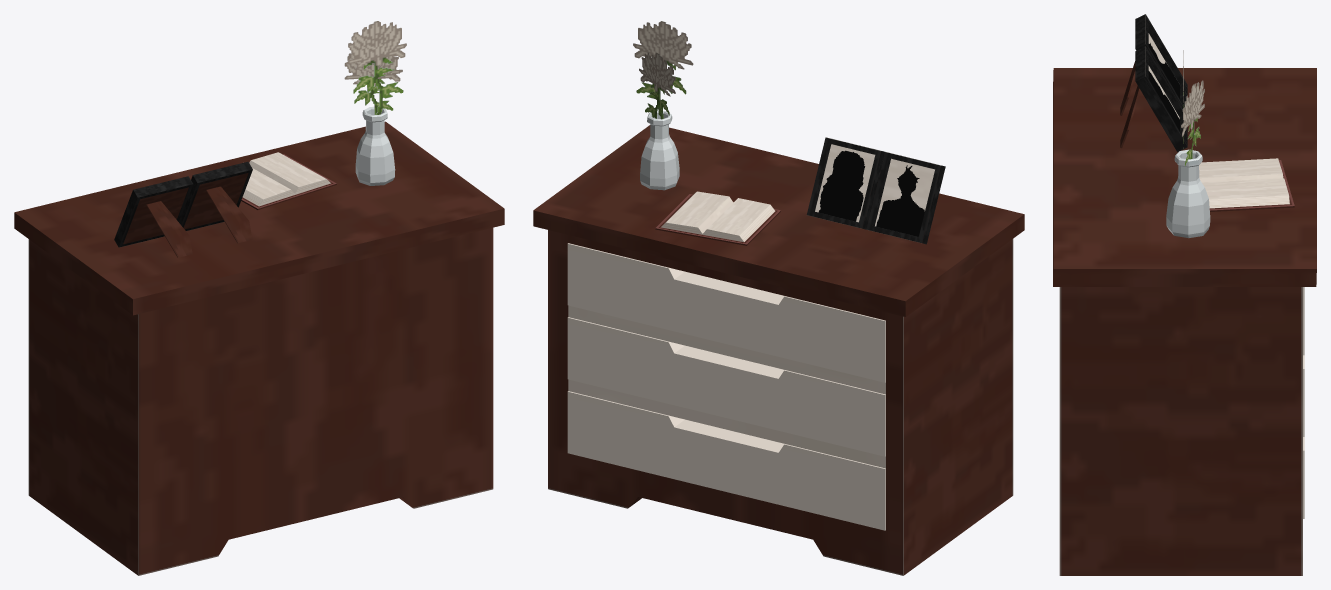
File: Table.fbx
3 renders of one model, left to right at view 1: azimuth 30°, elevation 25°; view 2: azimuth 150°, elevation 25°; view 3: azimuth 270°, elevation 25°, orthographic. The views are drawn at different scales.
Visible parts, largest first — view 1: table, frame_b, frame_a, Book, Flower_b, Bottle, Flower_a; view 2: table, drawer, Book, frame_b, frame_a, frame_a.001, Bottle, Flower_b, frame_b.001, Flower_a; view 3: table, Book, Bottle, frame_a, frame_b, Flower_a, drawer, frame_a.001.
Boxes of the visible parts, x1,y1,x2,y2 form: table: (14,121,504,575); frame_b: (114,176,192,257); frame_a: (179,161,252,243); Book: (241,152,336,209); Flower_b: (346,21,406,114); Bottle: (355,106,395,185); Flower_a: (344,53,402,114); table: (533,125,1024,575); drawer: (567,243,885,530); Book: (655,191,780,245); frame_b: (866,152,945,244); frame_a: (806,137,885,229); frame_a.001: (818,150,865,221); Bottle: (640,110,679,190); Flower_b: (633,21,693,119); frame_b.001: (876,165,924,236); Flower_a: (639,52,675,118); table: (1053,68,1316,575); Book: (1199,158,1294,211); Bottle: (1166,149,1210,238); frame_a: (1120,46,1187,151); frame_b: (1120,14,1187,115); Flower_a: (1181,80,1204,165); drawer: (1303,287,1304,518); frame_a.001: (1148,71,1179,130).
Bounding box in the file's own units: 209 × 238 × 116.
4 materials, 4 textured.
